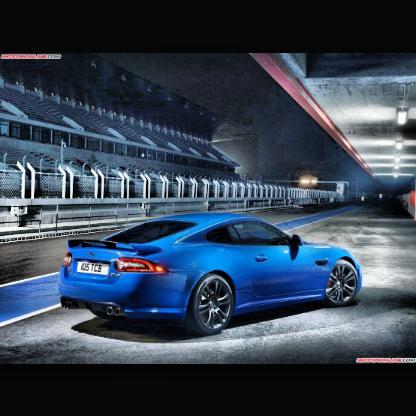Jaguar XK XKR 2012: (44, 203, 387, 350)
